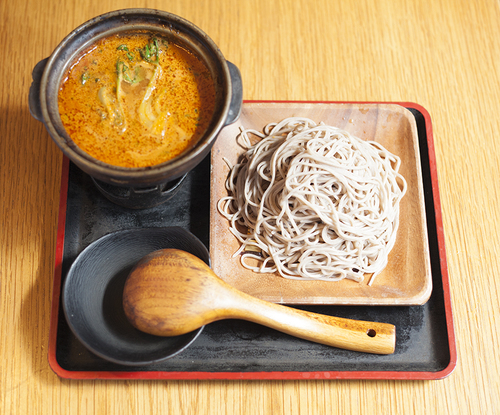Soba: (219, 117, 418, 279)
